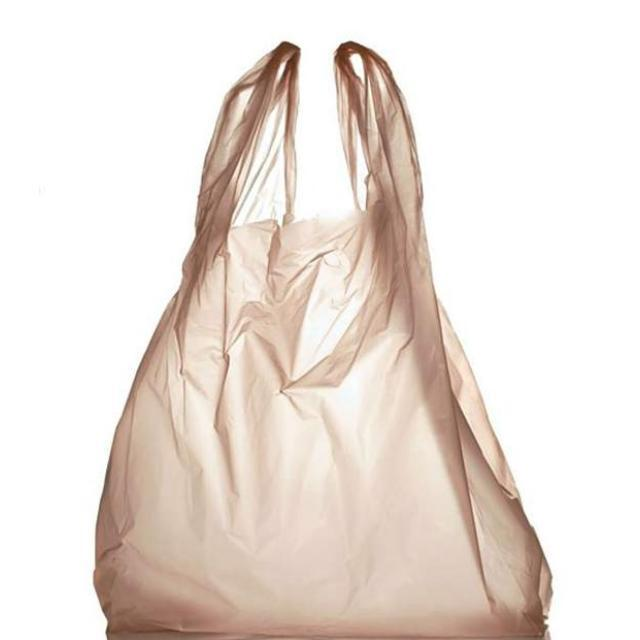Bolsa-de-nilon: (85, 71, 551, 640)
